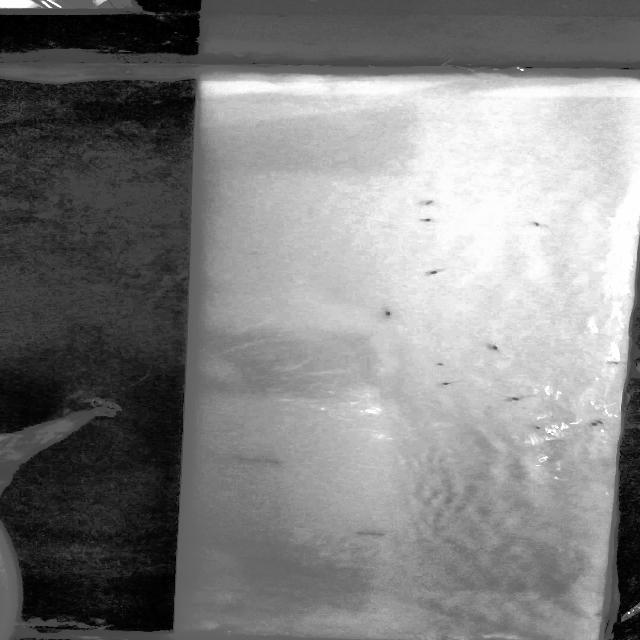shrimp: (525, 214, 559, 232), (417, 265, 452, 280), (374, 307, 403, 324), (503, 390, 532, 406), (485, 339, 505, 356), (432, 376, 460, 388), (409, 216, 442, 225), (410, 197, 441, 206), (586, 418, 607, 429), (428, 363, 448, 368)
